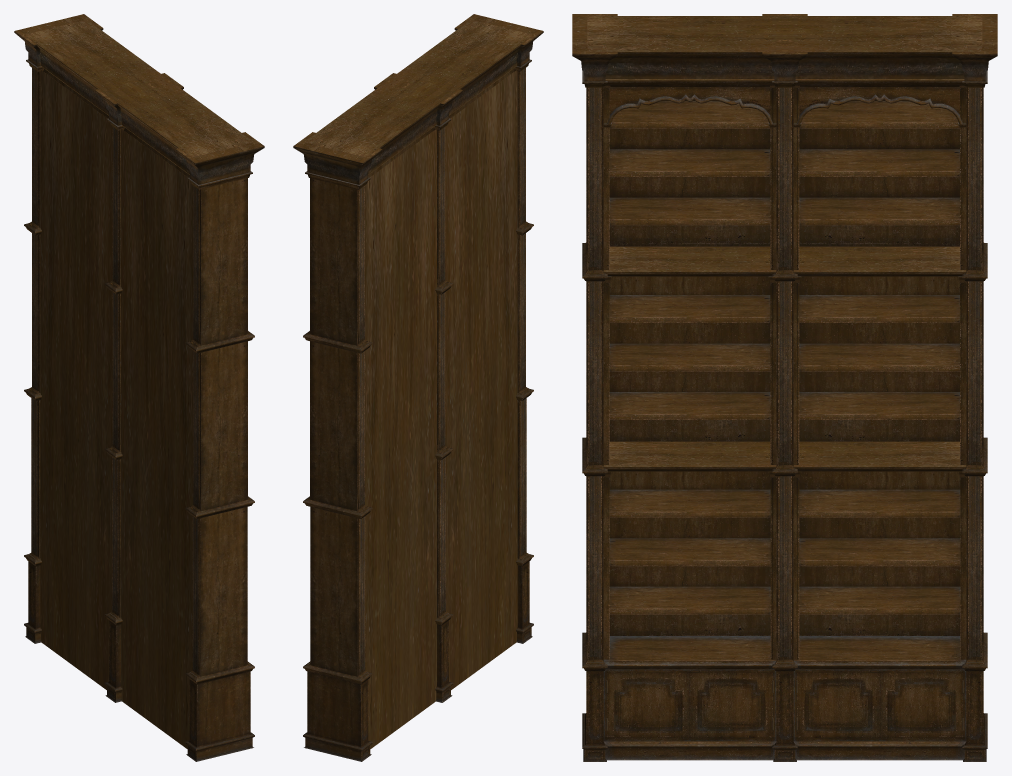
File: 248_bookshelf01a.fbx
3 views of the same model, side by side, from view 1: azimuth 30°, elevation 25°; view 2: azimuth 150°, elevation 25°; view 3: azimuth 270°, elevation 25° (orthographic). The views are drawn at different scales.
Visible parts, largest first — view 1: LOD_1_Group_0_Sub_1__sm30_159_BookShelf01A_B_Mat; view 2: LOD_1_Group_0_Sub_1__sm30_159_BookShelf01A_B_Mat; view 3: LOD_1_Group_0_Sub_1__sm30_159_BookShelf01A_B_Mat.
Boxes of the visible parts, x1=… form: LOD_1_Group_0_Sub_1__sm30_159_BookShelf01A_B_Mat: x1=14, y1=14, x2=264, y2=761; LOD_1_Group_0_Sub_1__sm30_159_BookShelf01A_B_Mat: x1=293, y1=14, x2=543, y2=761; LOD_1_Group_0_Sub_1__sm30_159_BookShelf01A_B_Mat: x1=572, y1=14, x2=997, y2=761.
Bounding box in the file's own units: 0.6117 × 5.06 × 2.74.
